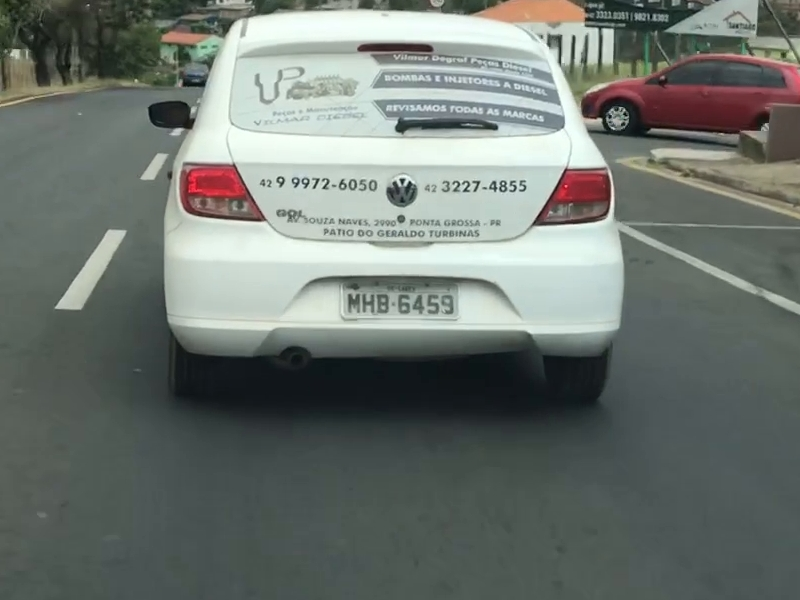placa: (340, 280, 461, 320)
